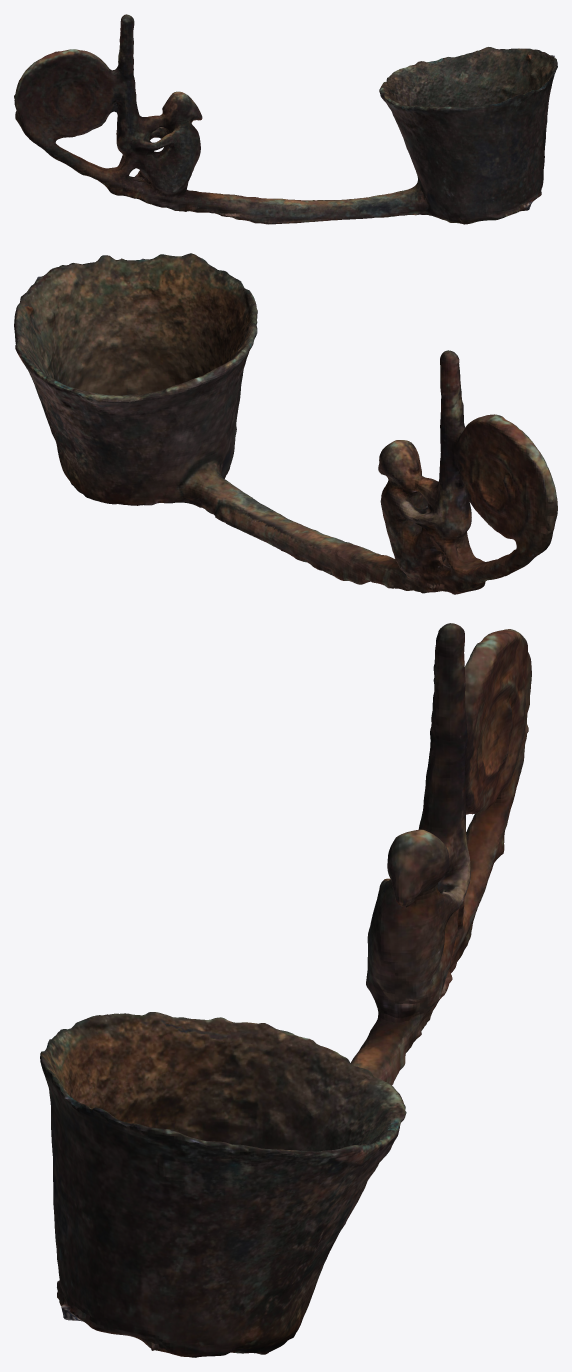
The model's file is Muoi.gltf.
3 renders of one model, top to bottom at view 1: azimuth 30°, elevation 25°; view 2: azimuth 150°, elevation 25°; view 3: azimuth 270°, elevation 25°, orthographic. The views are drawn at different scales.
Visible parts, largest first — view 1: Muoi-edited_SeamsColor; view 2: Muoi-edited_SeamsColor; view 3: Muoi-edited_SeamsColor.
Part boxes in pixels (x1,y1,x2,y2): Muoi-edited_SeamsColor: [14, 14, 557, 224]; Muoi-edited_SeamsColor: [14, 253, 557, 594]; Muoi-edited_SeamsColor: [40, 623, 531, 1357].
Size of the model in its own units: 44.87 by 19.64 by 20.85.
1 material, 1 textured.
